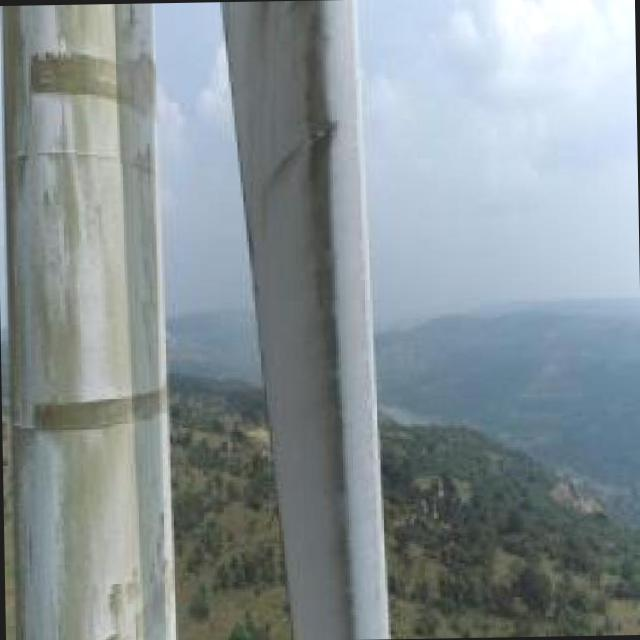Dirt: (2, 8, 176, 638), (256, 1, 356, 640)
Pin Hole: (312, 125, 330, 146)
